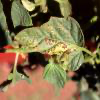Tomato leaf bacterial spot: (11, 15, 87, 71), (41, 57, 70, 94)
